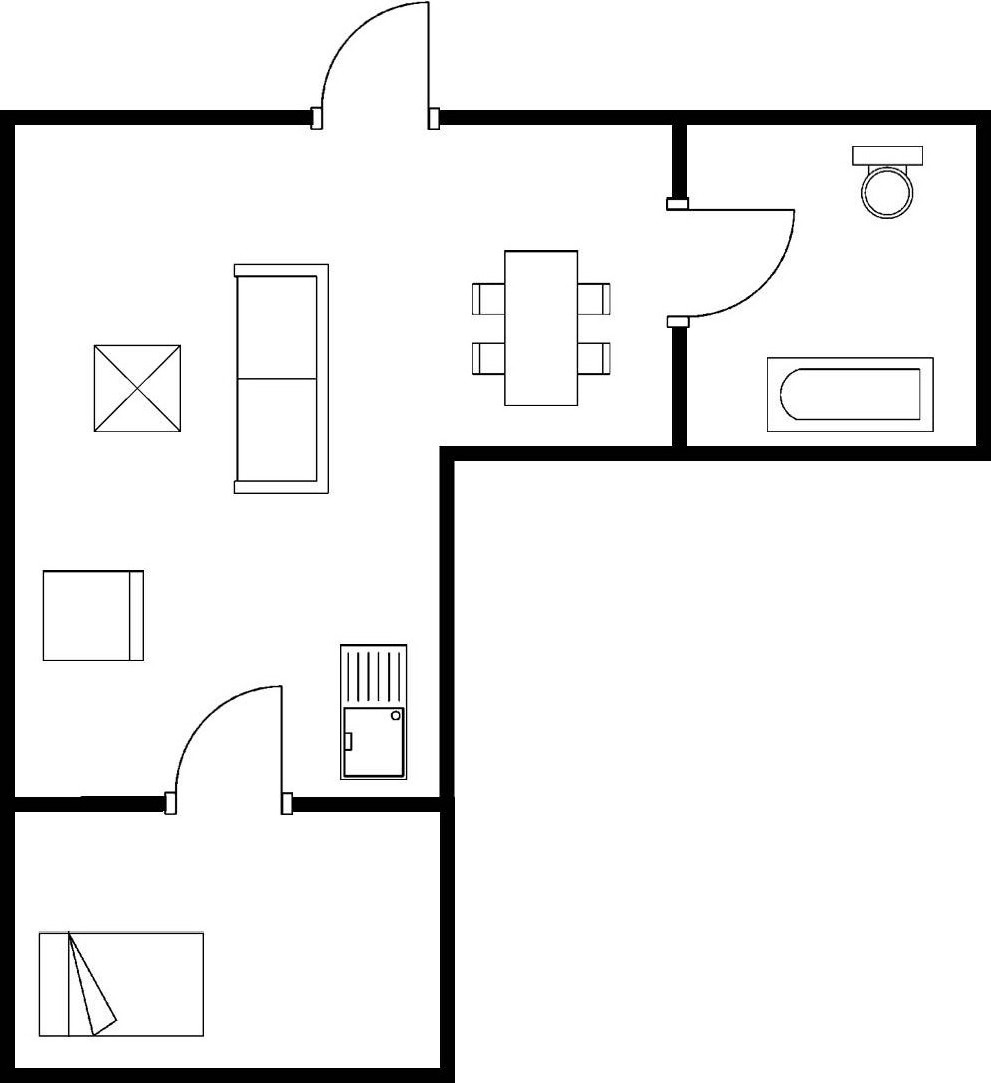bed: (30, 926, 212, 1047)
coffee_table: (89, 338, 189, 443)
dining_table: (466, 243, 617, 414)
large_sink: (843, 139, 929, 224)
large_sofa: (226, 257, 340, 501)
sink: (334, 637, 414, 786)
small_sofa: (35, 564, 150, 670)
tub: (756, 349, 942, 441)
